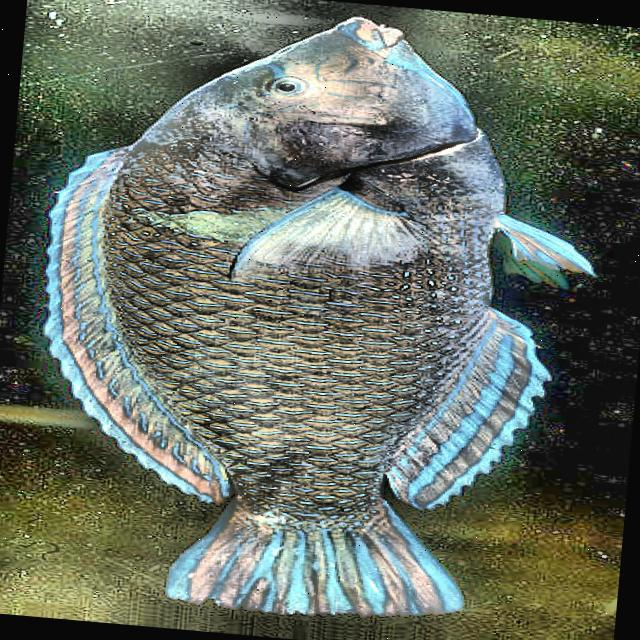fish: (16, 0, 625, 639)
